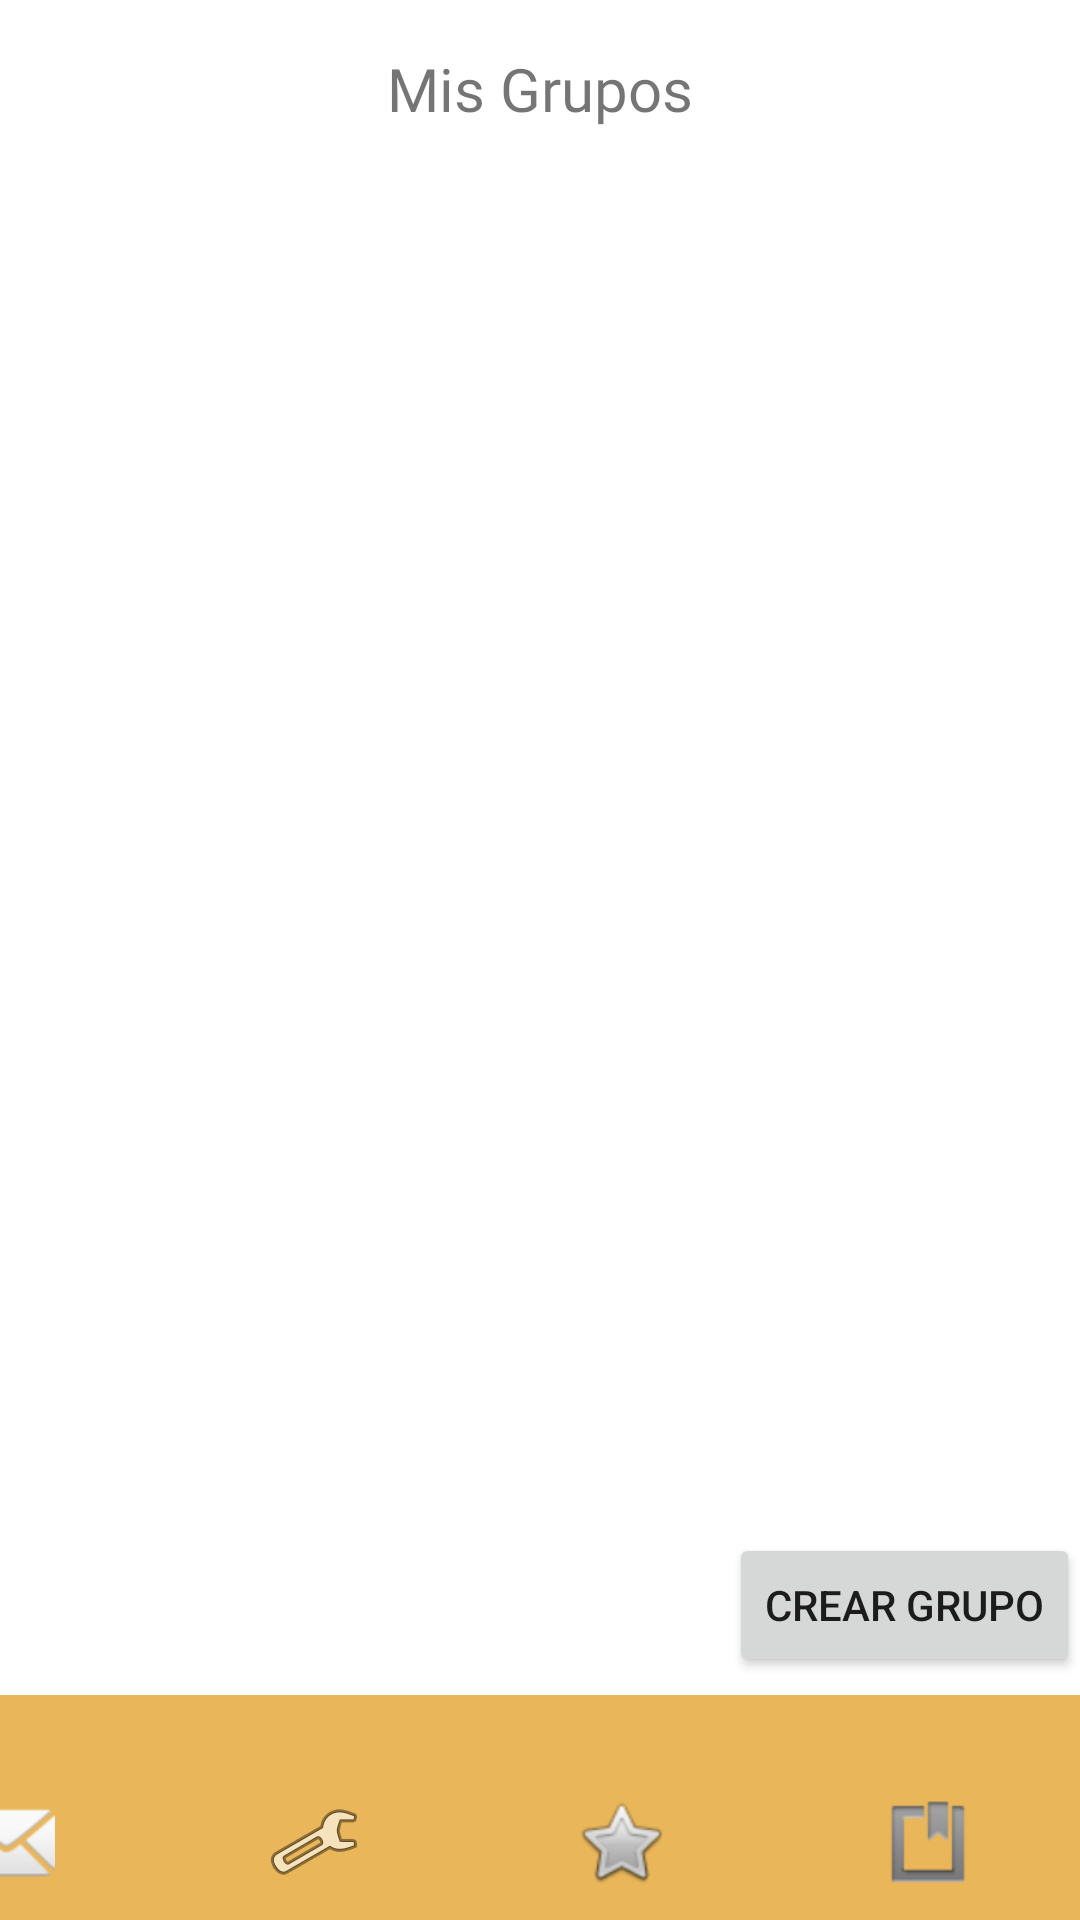

Icon bounding boxes for this 1080 × 1920 phone screenshot, format bbox=[x1, y1, x2, y2]:
preferences: bbox=[271, 1809, 357, 1875]
star: bbox=[582, 1804, 662, 1882]
